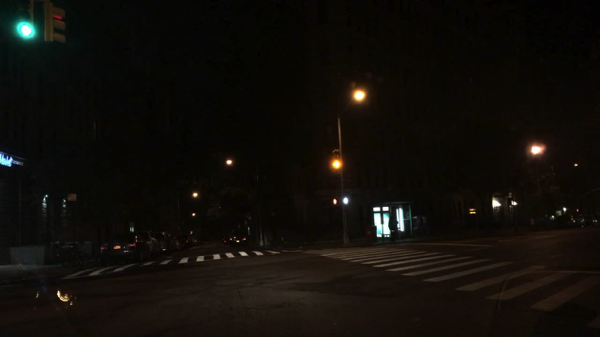bike: (61, 251, 87, 268)
car: (97, 233, 151, 263), (141, 232, 168, 255), (560, 206, 587, 229), (533, 212, 556, 229), (228, 232, 250, 247), (163, 233, 180, 251), (181, 232, 193, 247), (193, 233, 203, 246), (221, 234, 230, 243)
person: (388, 216, 399, 241)
traffic light: (43, 1, 66, 45), (17, 0, 36, 39), (329, 158, 342, 169), (342, 196, 351, 205), (331, 199, 337, 205)
traffic sign: (66, 194, 77, 200)
